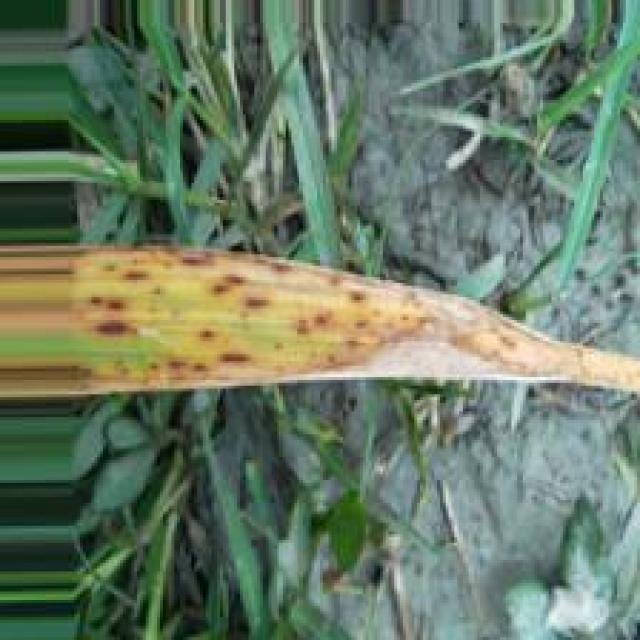Narrow_Brown_Leaf_Spot: (71, 243, 639, 394)
